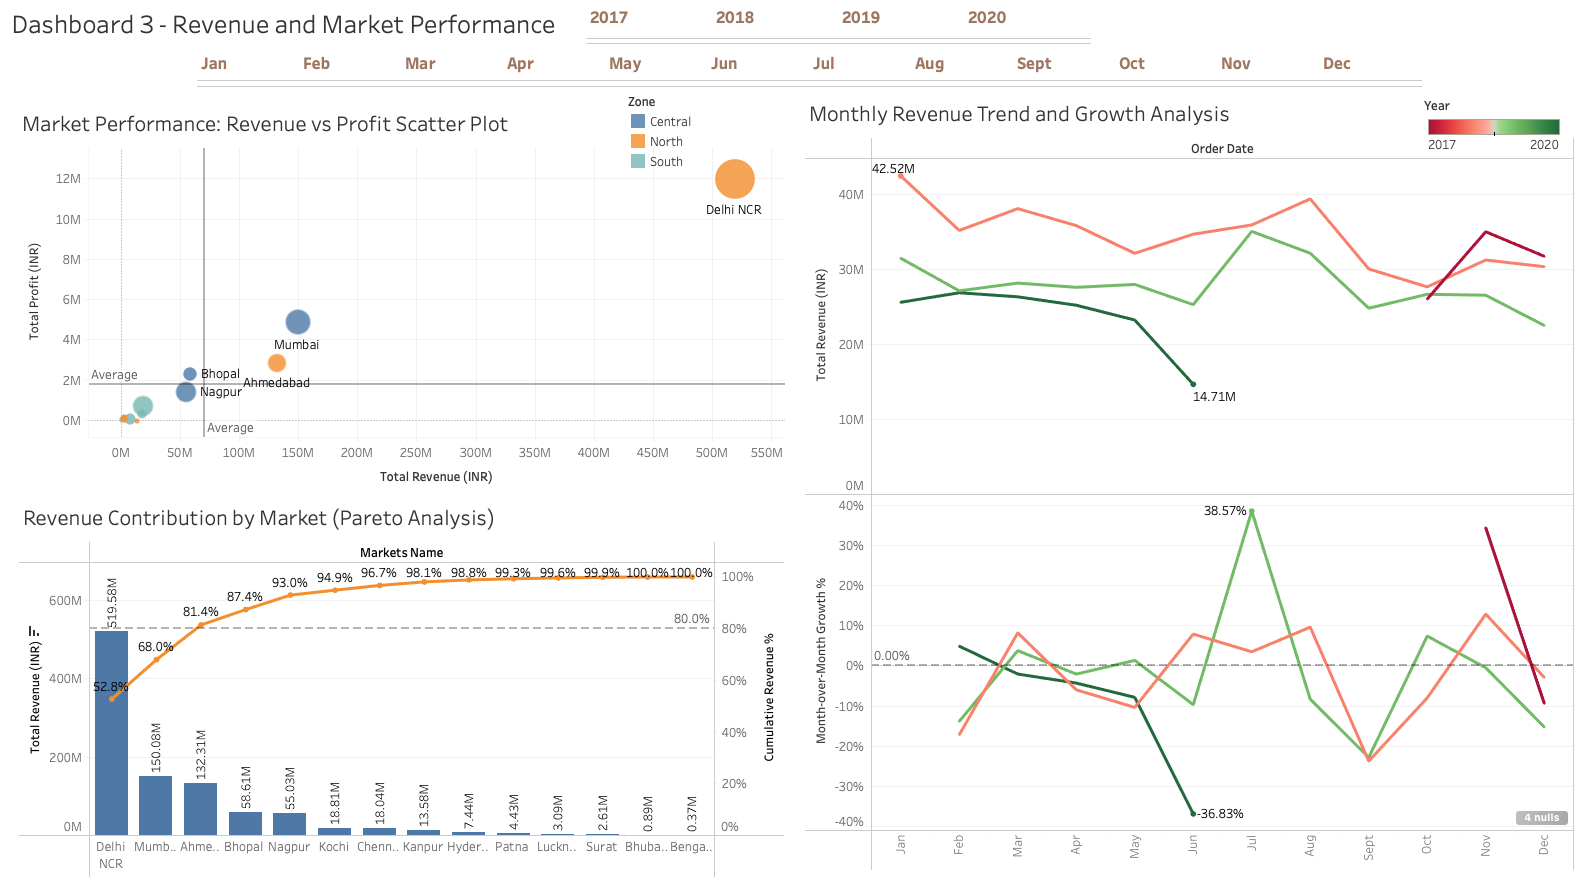

Layout of this report page (visuals, bound fields, positions):
{"tool":"tableau","page":{"name":"Dashboard 3 - Revenue and Market Performance","canvas":[1600,900],"ordinal":2},"visuals":[{"type":"worksheet","title":"Year","mark":"Automatic","cols":["cy_date"],"box":[589,1,530,53]},{"type":"title","box":[8,8,1584,42]},{"type":"worksheet","title":"Month","mark":"Automatic","cols":["cy_date"],"box":[200,51,1266,43]},{"type":"legend","title":"Market Performance: Revenue vs Profit Scatter Plot","param":"[federated.1lj9elx0486mc117ck9cu14w3cmc].[none:zone:nk]","box":[631,98,80,78]},{"type":"worksheet","title":"Monthly Revenue Trend and Growth Analysis","mark":"Line","rows":["Calculation_0072405700927488","Calculation_0072405700927488"],"cols":["order_date"],"box":[808,100,769,776]},{"type":"legend","title":"Monthly Revenue Trend and Growth Analysis","param":"[federated.1lj9elx0486mc117ck9cu14w3cmc].[none:year:qk]","box":[1427,102,140,76]},{"type":"worksheet","title":"Market Performance: Revenue vs Profit Scatter Plot","mark":"Circle","rows":["profit_margin"],"cols":["Calculation_0072405700927488"],"box":[21,110,767,387]},{"type":"worksheet","title":"Revenue Contribution by Market (Pareto Analysis)","mark":"Bar","rows":["Calculation_0072405700927488","Calculation_0072405700927488"],"cols":["markets_name"],"box":[22,504,766,379]}]}

Visuals, with their boxes in screenshot pixels (x1, y1, x2, y2), scaled from the page's 1600x900 canvas onto the 1594x888 screenshot:
"Year" worksheet: bbox=[587, 1, 1115, 53]
title: bbox=[8, 8, 1586, 49]
"Month" worksheet: bbox=[199, 50, 1461, 93]
"Market Performance: Revenue vs Profit Scatter Plot" legend: bbox=[629, 97, 708, 174]
"Monthly Revenue Trend and Growth Analysis" worksheet (Line marks): bbox=[805, 99, 1571, 864]
"Monthly Revenue Trend and Growth Analysis" legend: bbox=[1422, 101, 1561, 176]
"Market Performance: Revenue vs Profit Scatter Plot" worksheet (Circle marks): bbox=[21, 109, 785, 490]
"Revenue Contribution by Market (Pareto Analysis)" worksheet (Bar marks): bbox=[22, 497, 785, 871]
